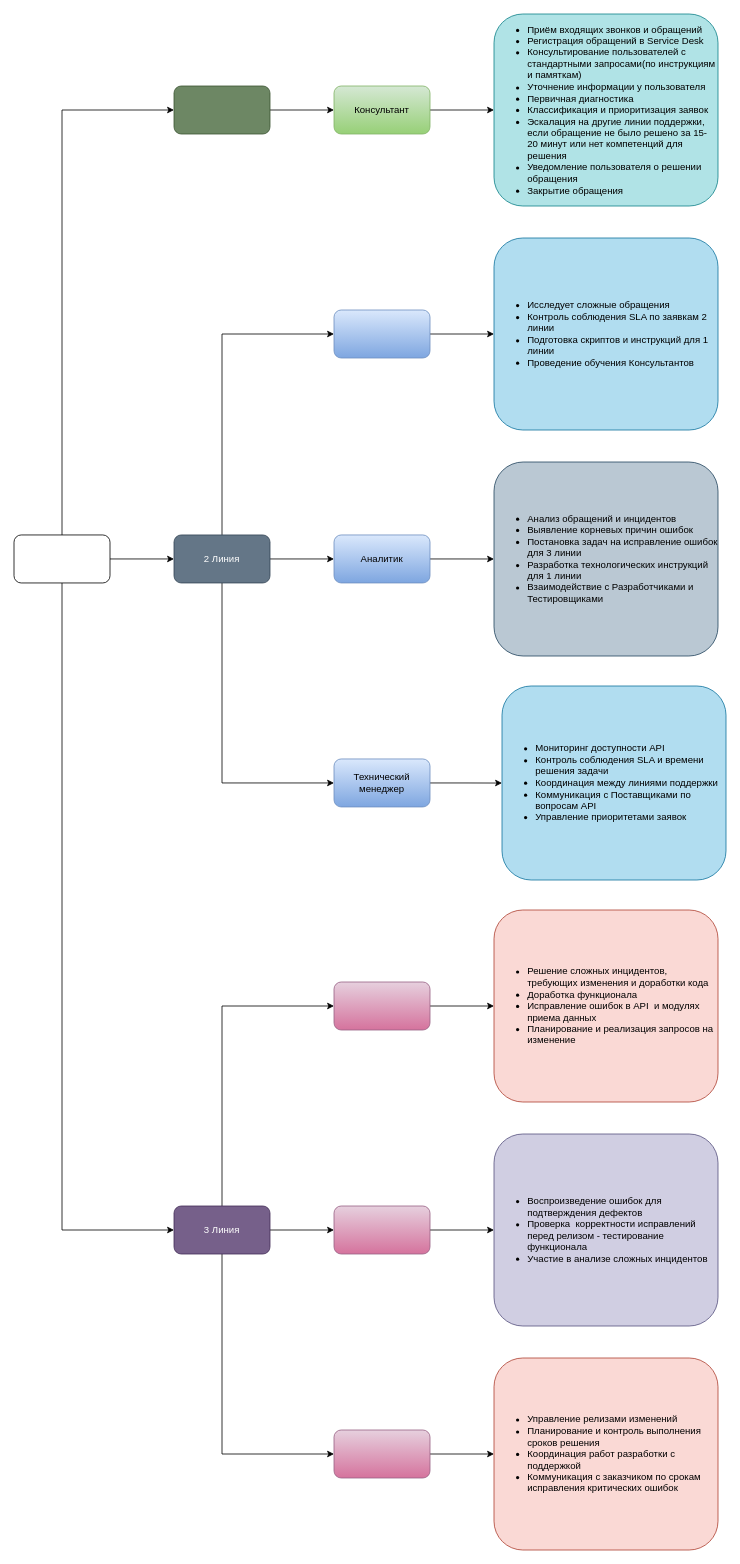
Image size: 740x1564. Some labels were removed from this diagram. The shapes that lost their labels are listed below. From the top down, each one's box as (x1, y1, x2, y2) in pixels, then its label:
(173, 85, 270, 134): 1 Линия
(333, 309, 430, 358): Ведущий консультант
(13, 534, 110, 583): Техническая поддержка
(333, 981, 430, 1030): Разработчик
(333, 1205, 430, 1254): Тестировщий
(333, 1429, 430, 1478): Менеджер проекта
